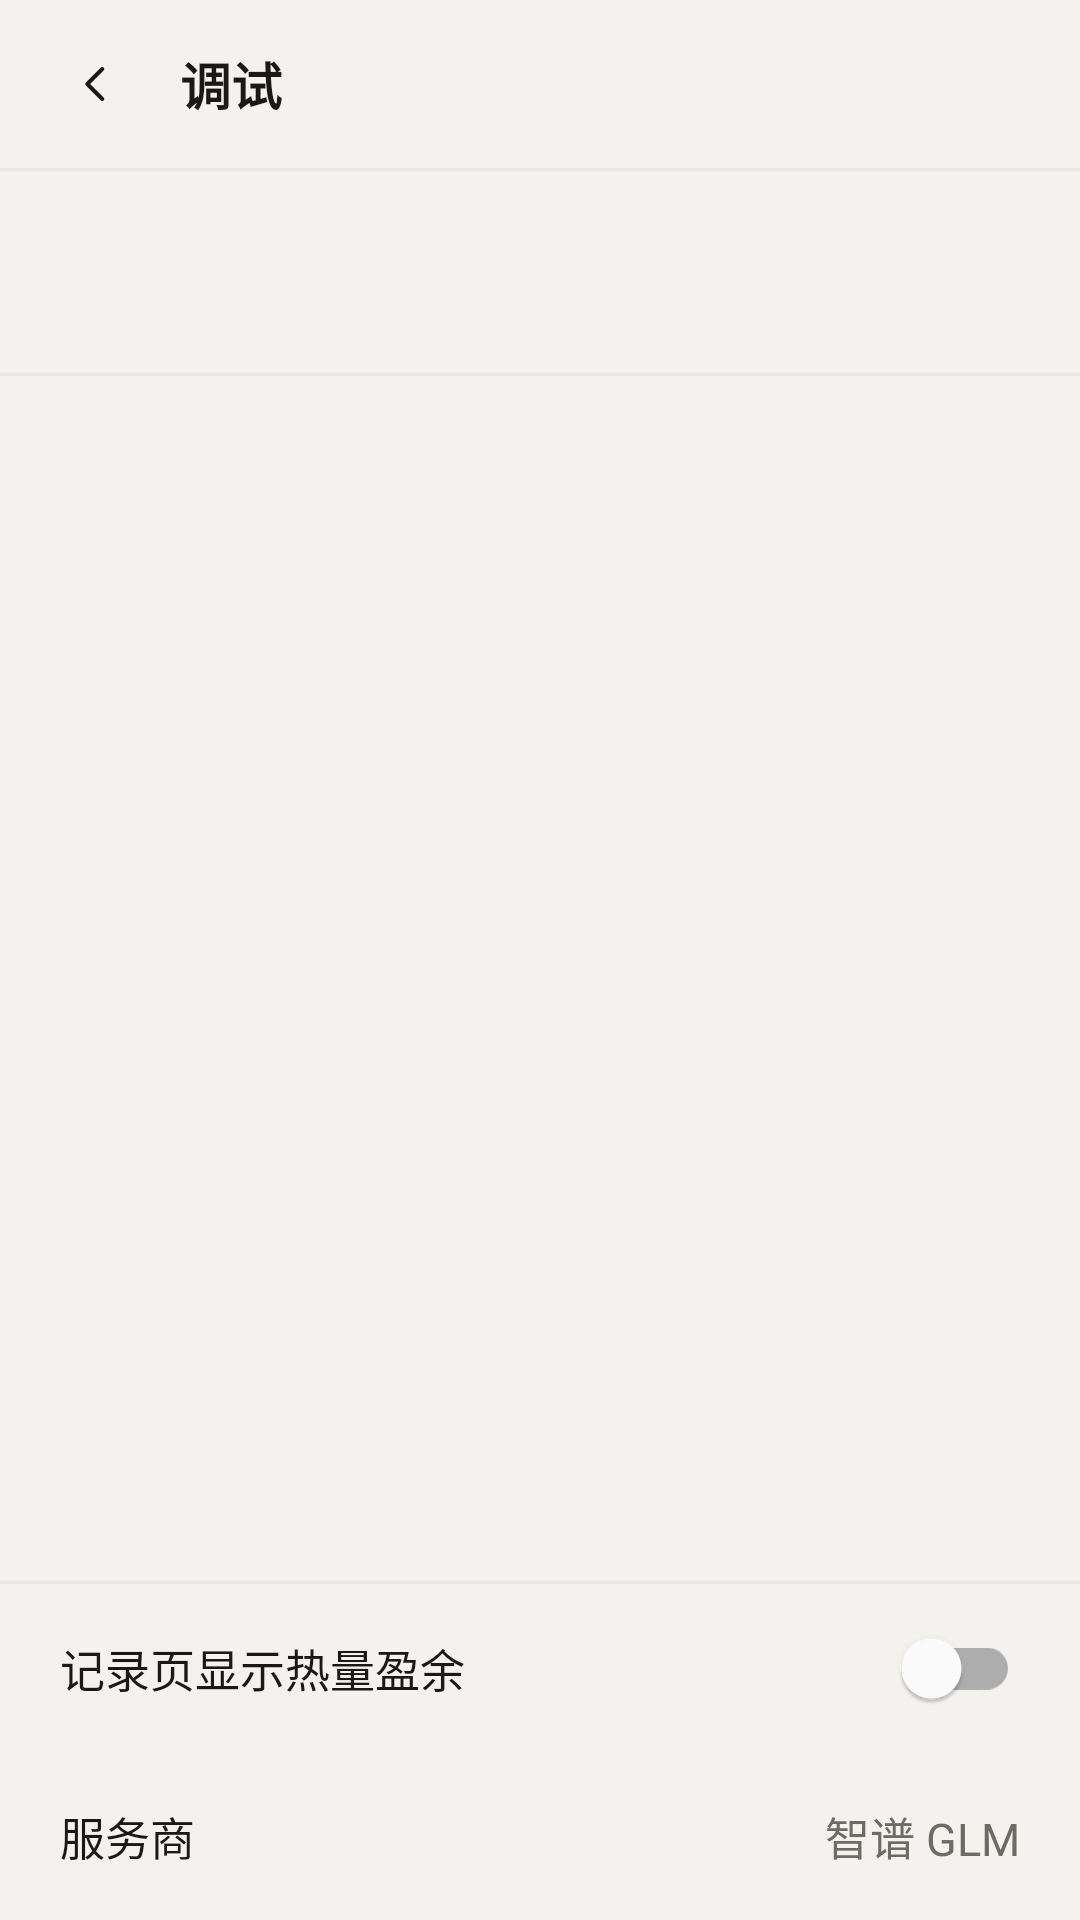

Point at icon controls on the screen. Image size 1080px x 1920px, points as point (x, y).
返回: point (95, 84)
